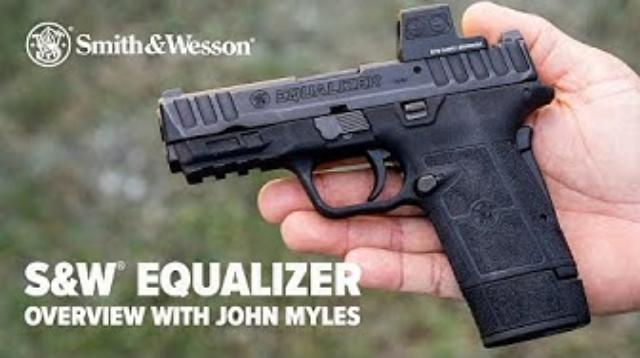handgun: (154, 0, 598, 352)
